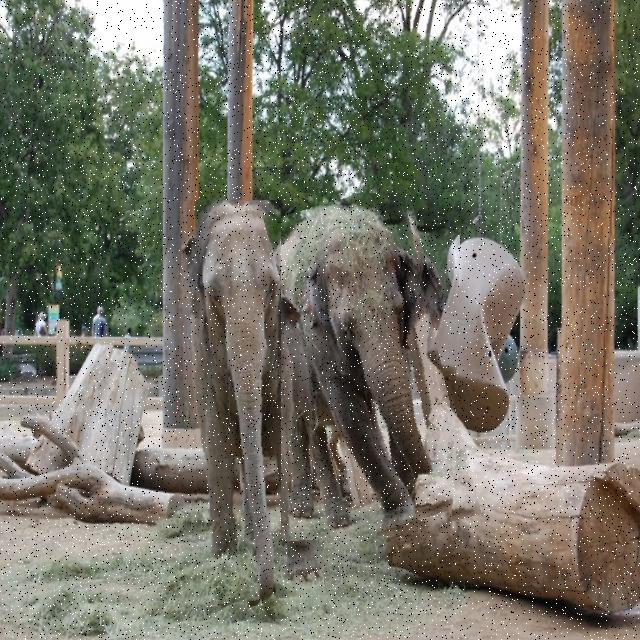elephant: (281, 193, 462, 542), (182, 200, 324, 606)
